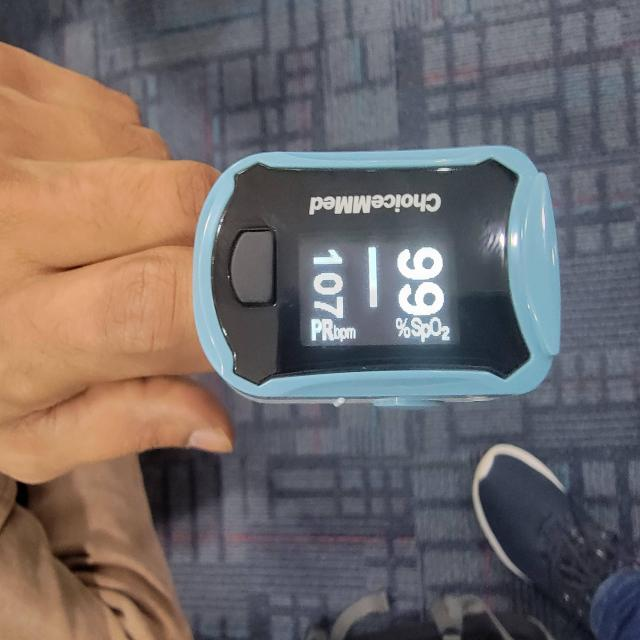spo2: (191, 146, 563, 407)
